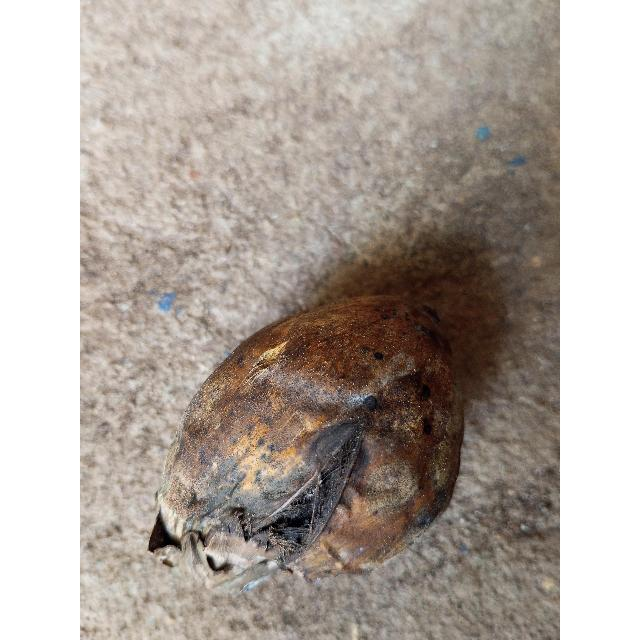damaged: (149, 283, 478, 584)
